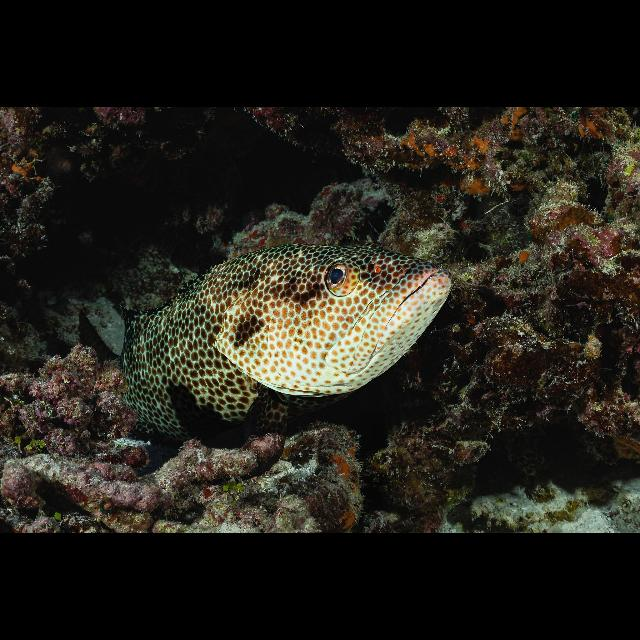Groupers: (113, 245, 455, 448)
